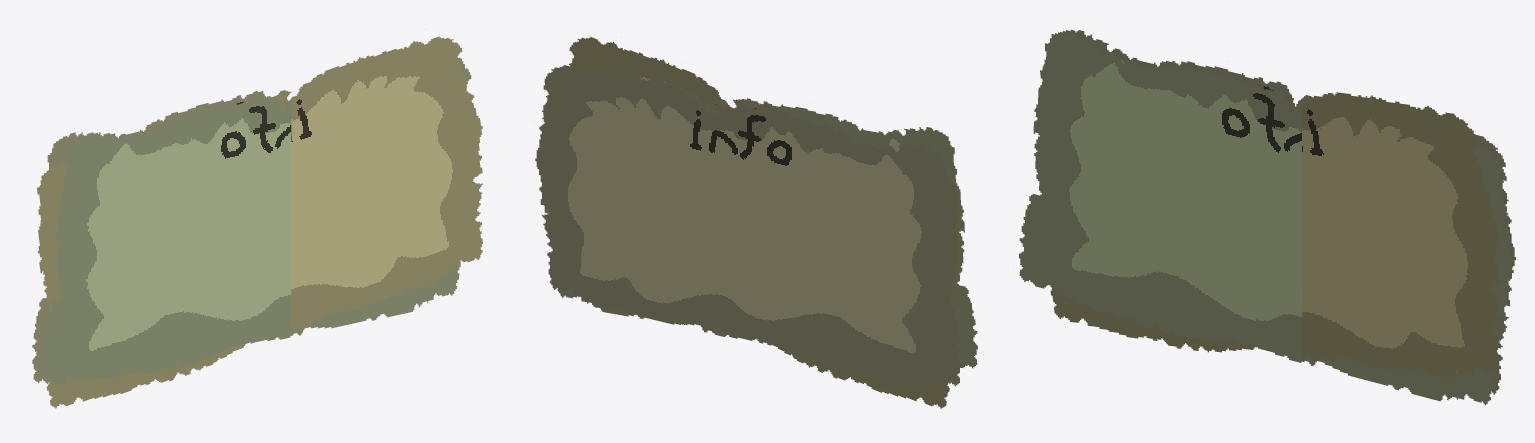
Rendered from InfoScreenBG.gltf.
3 renders of one model, left to right at view 1: azimuth 30°, elevation 25°; view 2: azimuth 150°, elevation 25°; view 3: azimuth 330°, elevation 25°, orthographic. The views are drawn at different scales.
Parts seen in each view (by area): view 1: NotMain (×2), Main; view 2: Main, NotMain (×2); view 3: NotMain (×2), Main.
Boxes of the visible parts, x1,y1,x2,y2 form: NotMain (×2): [37, 36, 482, 408]; Main: [32, 57, 464, 382]; Main: [535, 65, 961, 386]; NotMain (×2): [537, 36, 977, 408]; NotMain (×2): [1019, 32, 1513, 405]; Main: [1060, 29, 1515, 394].
Size of the model in its own units: 21.28 by 13.76 by 1.06.
3 materials, 3 textured.
